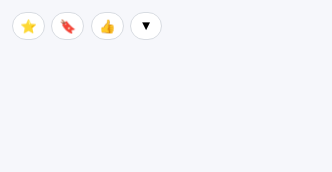
Scenario: ReactionPicker › reports a dropdown selection
Click the button named "Toggle reaction menu": (146, 26) x1=130 y1=12 x2=162 y2=40
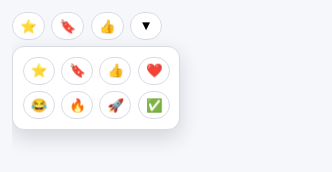
Click the button "🔥": (77, 105) x1=61 y1=91 x2=93 y2=119
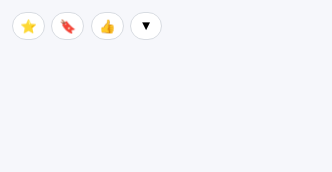
Check: the button "🔥" is gone
